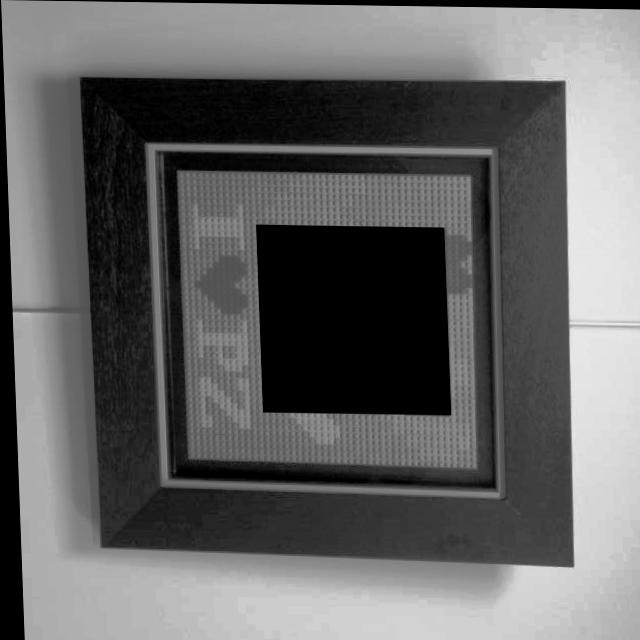qr_code: (253, 224, 447, 414)
